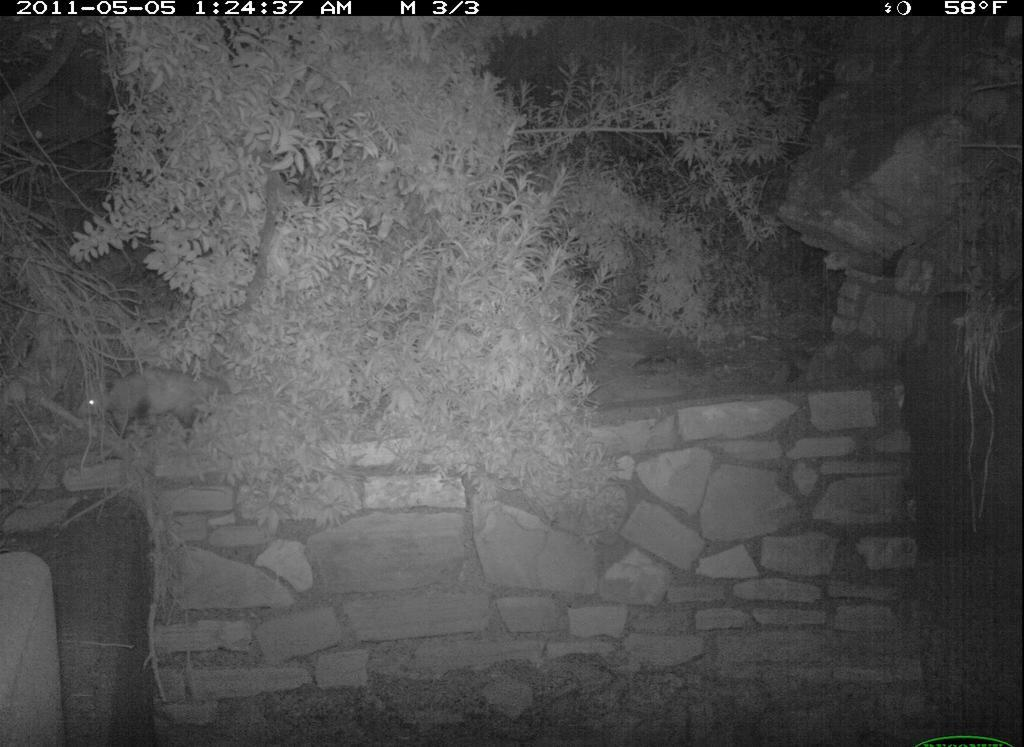opossum: (71, 361, 241, 447)
